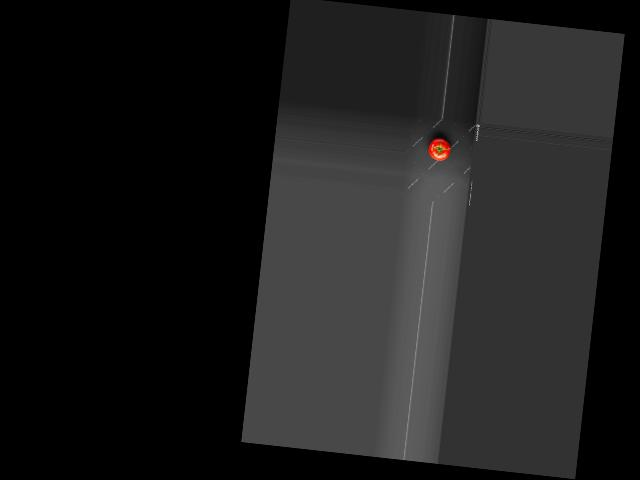tomato: (427, 137, 451, 162)
